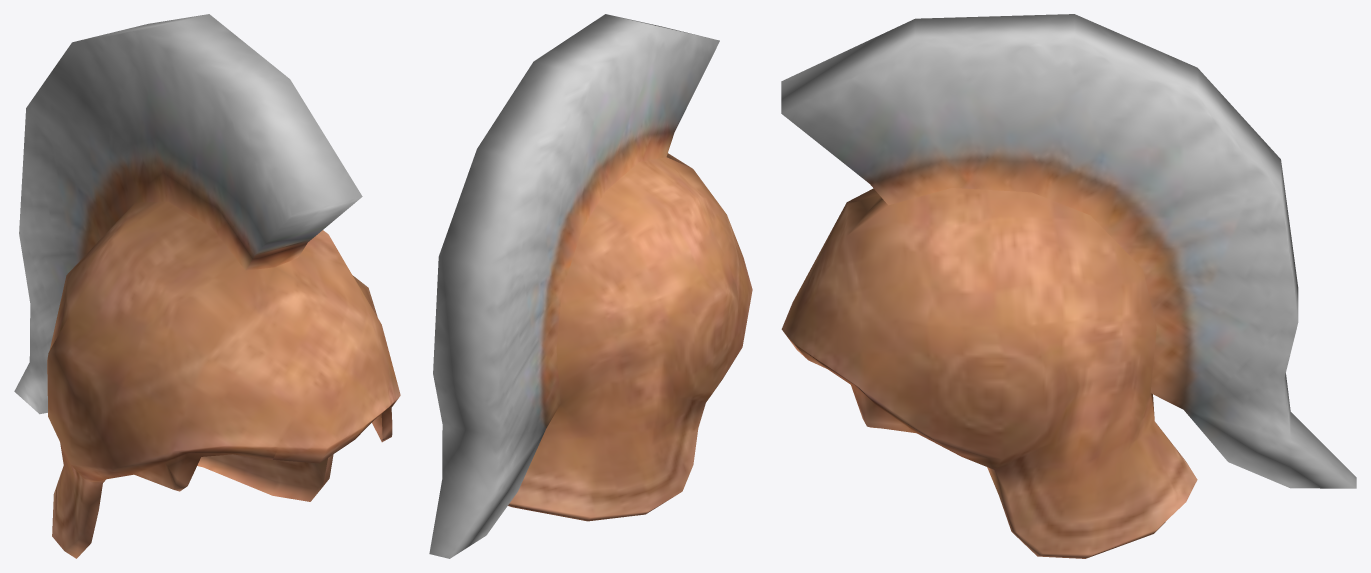
The model's file is helmet-heavyinfantry.glb.
3 renders of one model, left to right at view 1: azimuth 30°, elevation 25°; view 2: azimuth 150°, elevation 25°; view 3: azimuth 270°, elevation 25°, orthographic. The views are drawn at different scales.
Bounding box in the file's own units: 0.2774 × 0.4516 × 0.49.
1 material, 1 textured.
